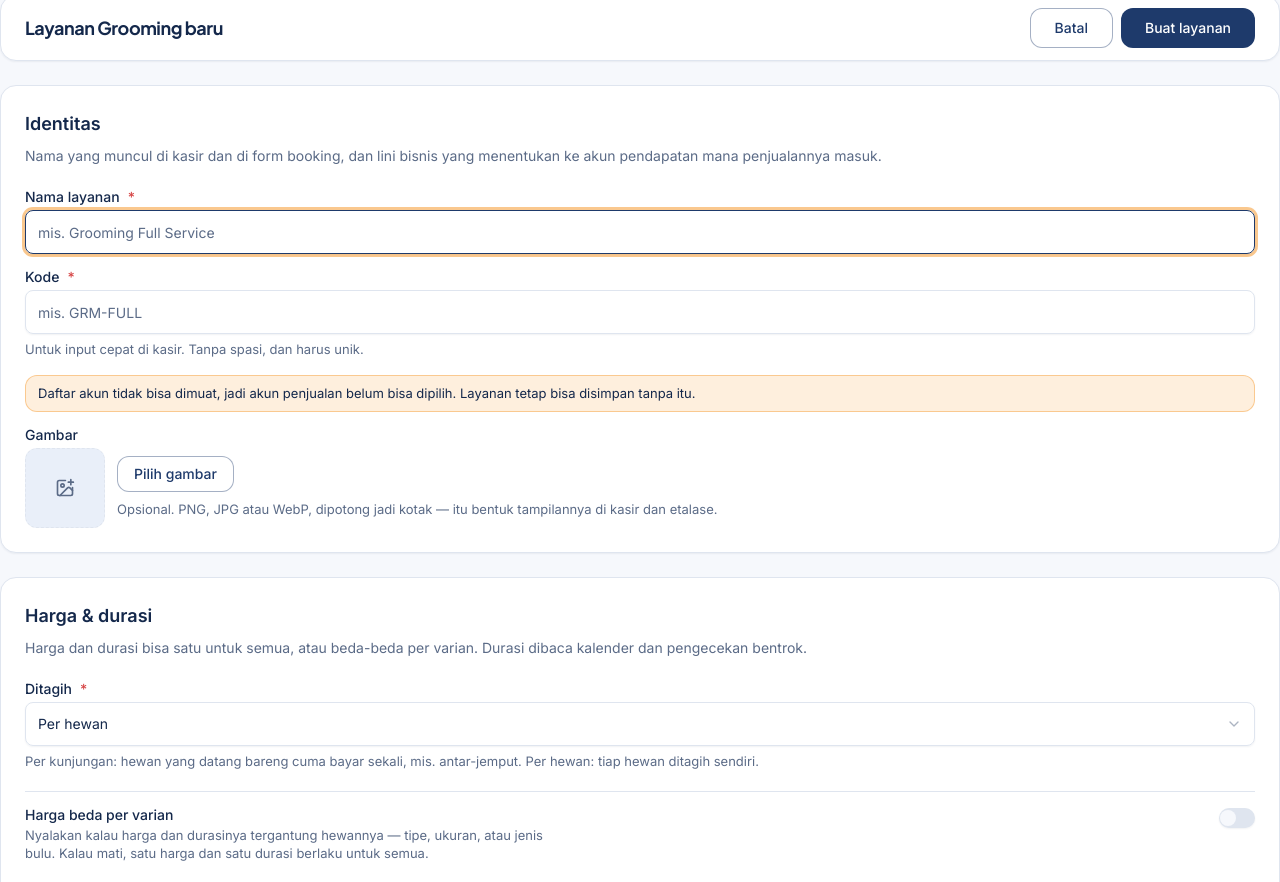
Test: ServiceForm — creating › refuses to submit without a name, a code and a price
What coordinates should you click on to do the following:
click the button "Buat layanan"
I would click on:
 (1188, 28)
Its box is [1121, 8, 1255, 48].
(page scrolled)
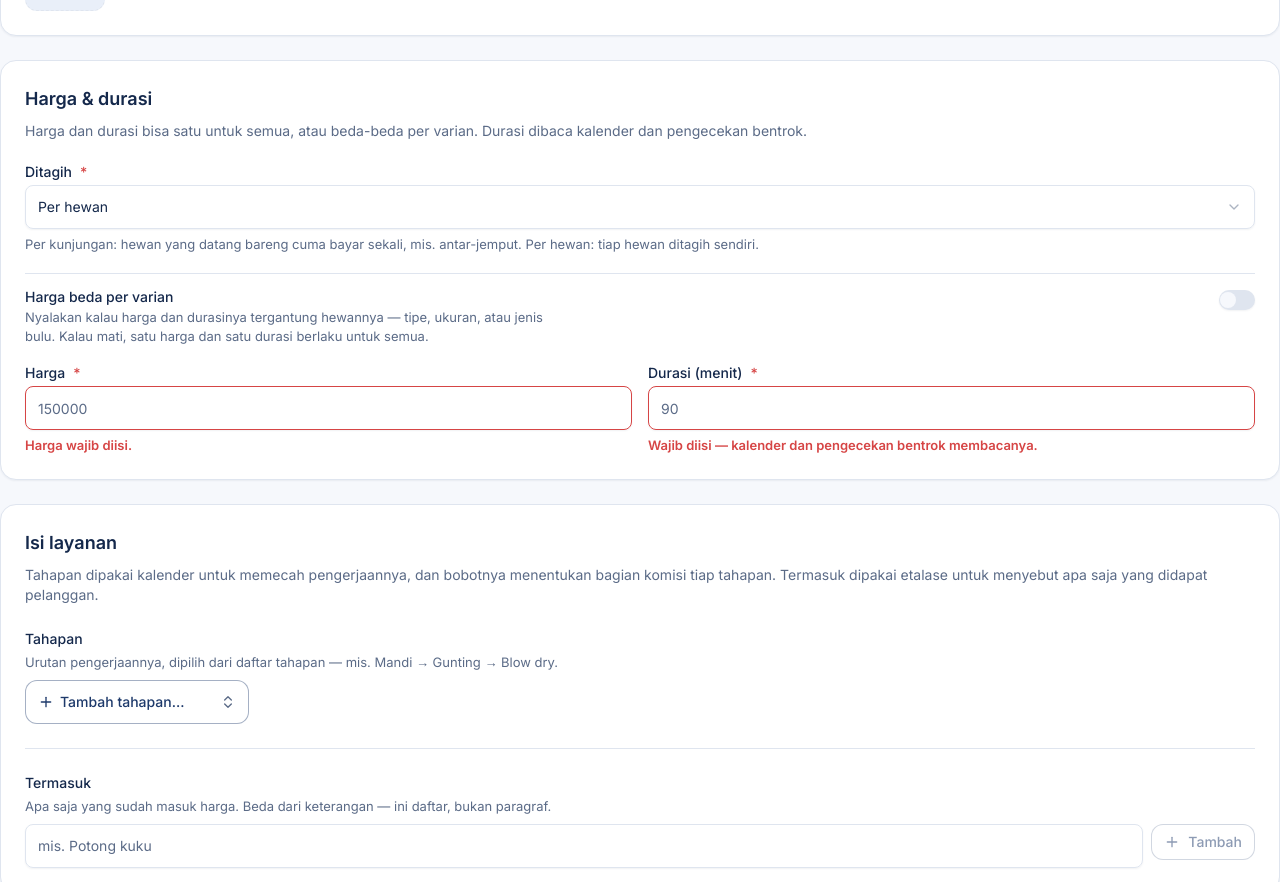
Expected: the text "Harga wajib diisi." is shown, [25, 437, 132, 453]
